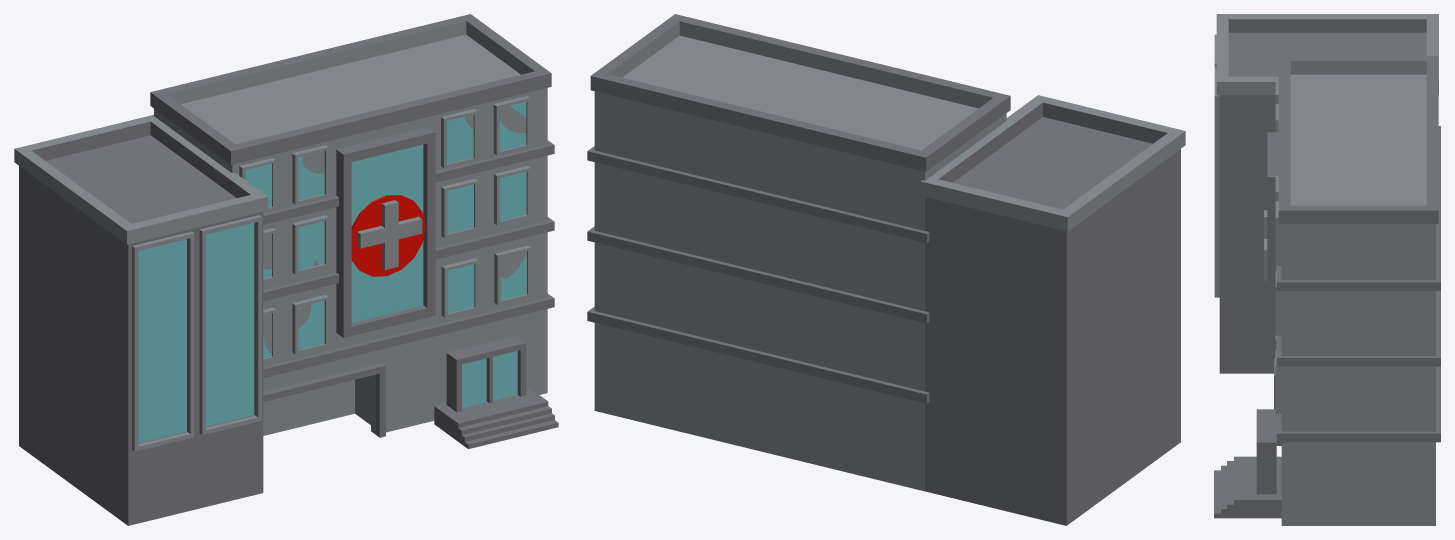
The model's file is Hospital_Kapot.fbx.
3 views of the same model, side by side, from view 1: azimuth 30°, elevation 25°; view 2: azimuth 150°, elevation 25°; view 3: azimuth 270°, elevation 25° (orthographic). The views are drawn at different scales.
Parts seen in each view (by area): view 1: Hospital_Kapot; view 2: Hospital_Kapot; view 3: Hospital_Kapot.
Boxes of the visible parts, <box> form: Hospital_Kapot: <box>14,14,558,525</box>; Hospital_Kapot: <box>587,14,1185,525</box>; Hospital_Kapot: <box>1214,14,1440,525</box>.
Bounding box in the file's own units: 1016 × 686 × 441.
